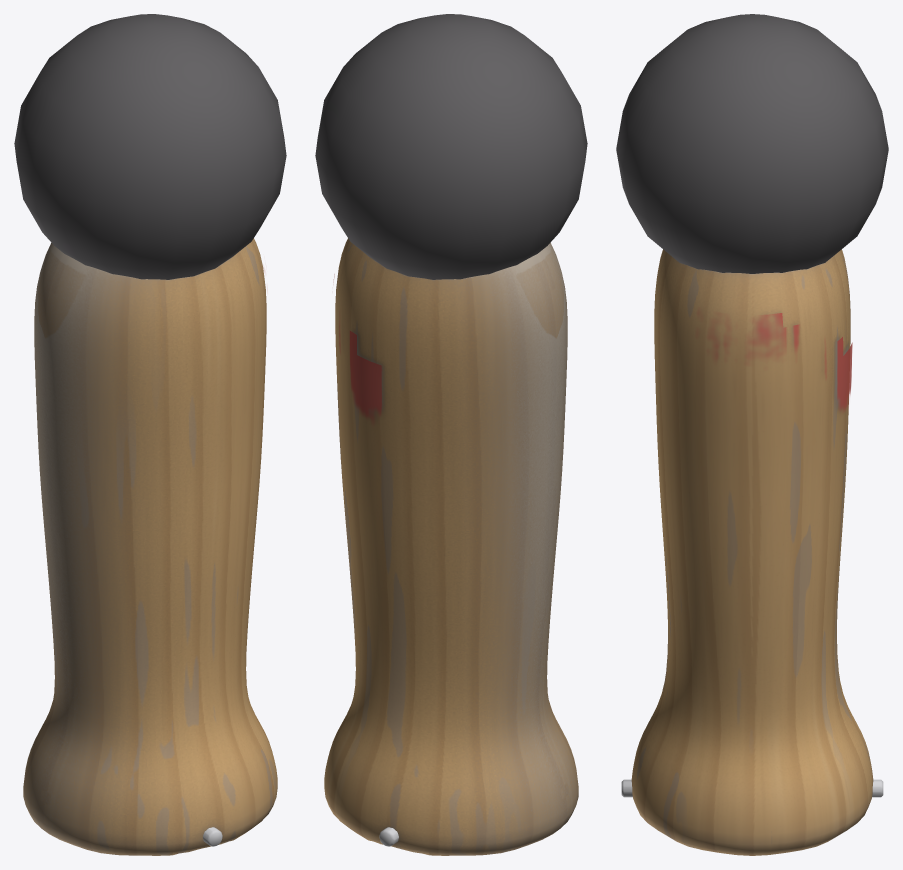
Rendered from UpperArm_L.glb.
3 views of the same model, side by side, from view 1: azimuth 30°, elevation 25°; view 2: azimuth 150°, elevation 25°; view 3: azimuth 270°, elevation 25° (orthographic).
Parts seen in each view (by area): view 1: UpperArm_L, UpperArm_L_Ball; view 2: UpperArm_L, UpperArm_L_Ball, UpperArm_L_Paint; view 3: UpperArm_L, UpperArm_L_Ball, UpperArm_L_Paint.
Part boxes in pixels (<box>): UpperArm_L: <box>23,238,277,855</box>; UpperArm_L_Ball: <box>14,14,286,279</box>; UpperArm_L: <box>324,238,578,855</box>; UpperArm_L_Ball: <box>315,14,587,279</box>; UpperArm_L_Paint: <box>333,274,382,424</box>; UpperArm_L: <box>631,249,873,855</box>; UpperArm_L_Ball: <box>616,14,888,273</box>; UpperArm_L_Paint: <box>696,310,852,412</box>.
Bounding box in the file's own units: 0.116 × 0.3677 × 0.116.
Materials: 4 (2 with a texture image).
